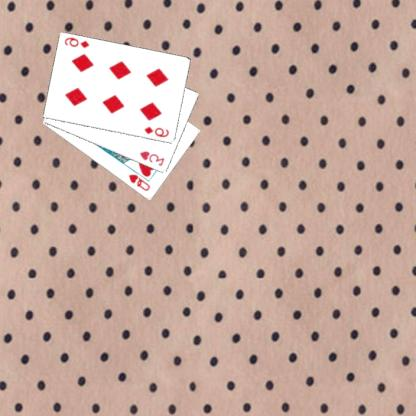3H: (139, 149, 168, 167)
6D: (144, 124, 172, 139), (64, 35, 92, 50)
QH: (128, 172, 153, 193)
